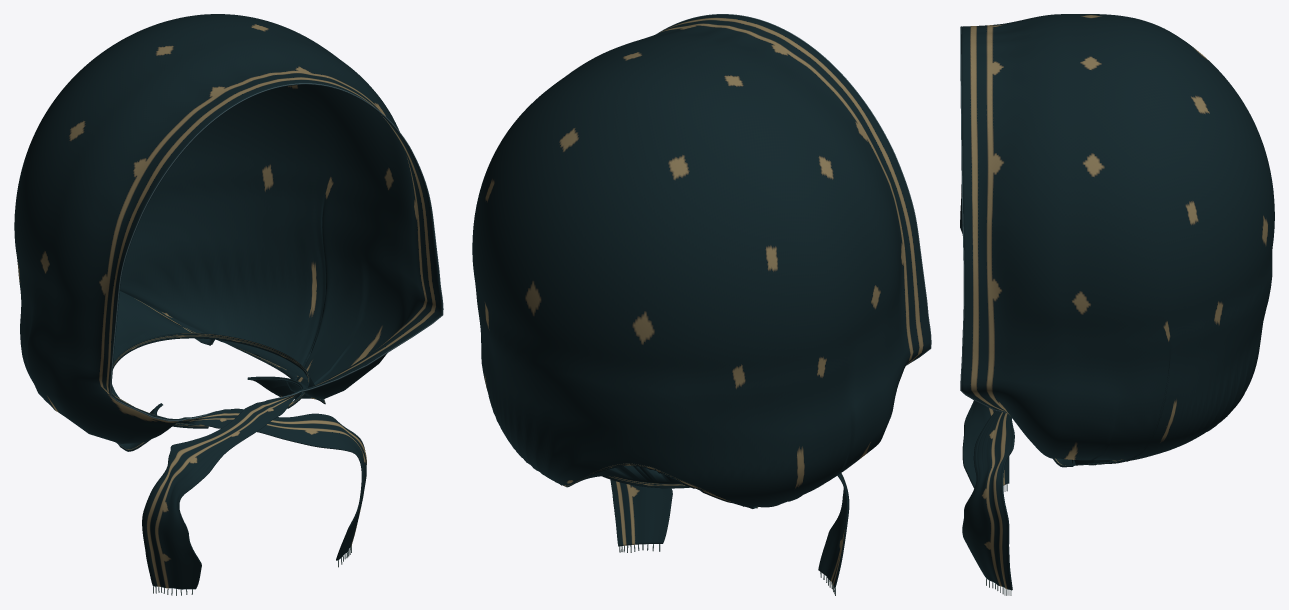
File: Feminine-Feminine-ponytail-tank-pashmina251-headgear-71c2f22c.glb
The picture shows the model from 3 angles, left to right: view 1: azimuth 30°, elevation 25°; view 2: azimuth 150°, elevation 25°; view 3: azimuth 270°, elevation 25°; orthographic projection. The views are drawn at different scales.
Parts seen in each view (by area): view 1: 226 headgear / Headwear / continuous woven pashmina239, 226 headgear / Headwear / face edge239; view 2: 226 headgear / Headwear / continuous woven pashmina239, 226 headgear / Headwear / face edge239; view 3: 226 headgear / Headwear / continuous woven pashmina239, 226 headgear / Headwear / face edge239.
Boxes of the visible parts, x1=… form: 226 headgear / Headwear / continuous woven pashmina239: x1=14, y1=14, x2=442, y2=589; 226 headgear / Headwear / face edge239: x1=110, y1=83, x2=443, y2=421; 226 headgear / Headwear / continuous woven pashmina239: x1=472, y1=14, x2=930, y2=588; 226 headgear / Headwear / face edge239: x1=657, y1=14, x2=931, y2=365; 226 headgear / Headwear / continuous woven pashmina239: x1=960, y1=14, x2=1274, y2=590; 226 headgear / Headwear / face edge239: x1=960, y1=26, x2=1007, y2=413.
Size of the model in its own units: 0.8667 by 1.22 by 0.6715.
Materials: 3 (1 with a texture image).
